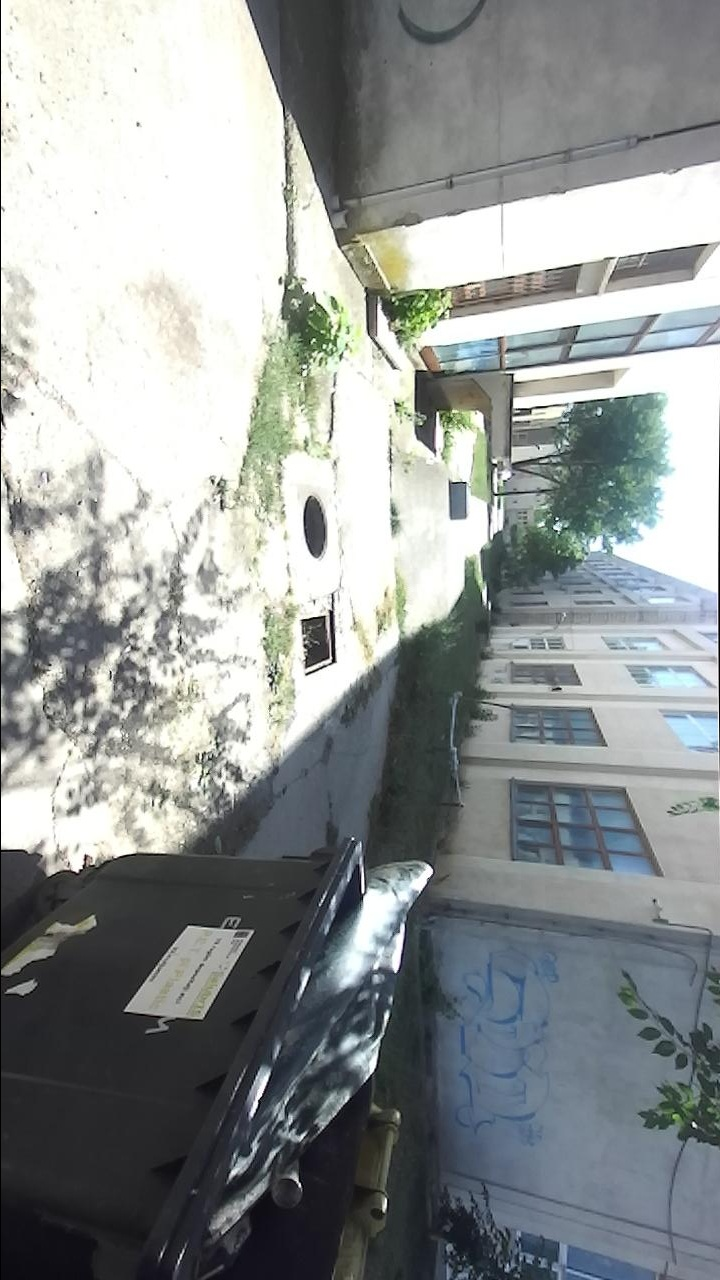drain: (300, 605, 337, 678), (301, 490, 331, 563)
